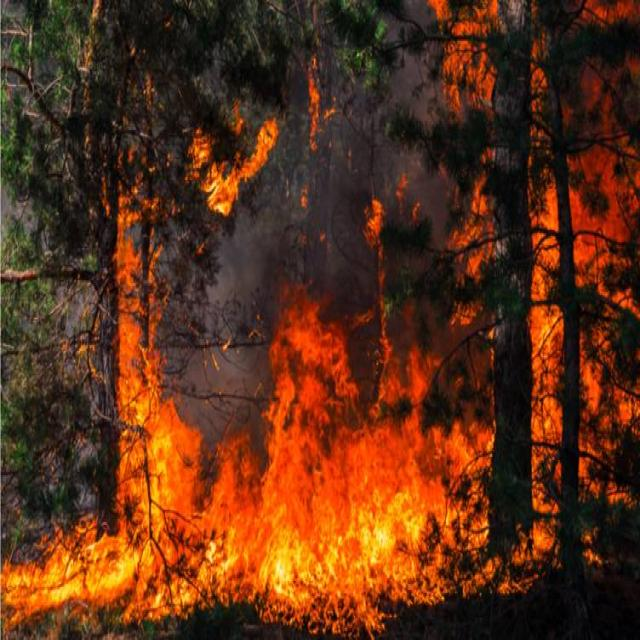fire: (215, 321, 447, 612), (118, 215, 198, 619), (6, 536, 112, 616), (195, 124, 281, 211)
